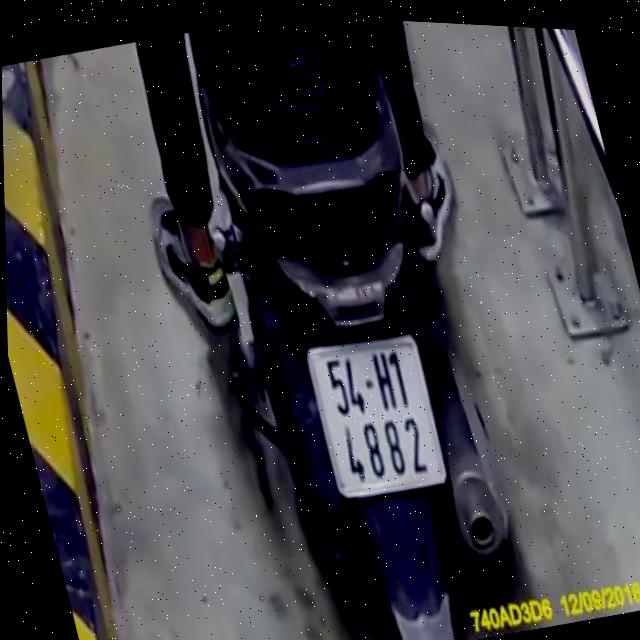plate: (155, 8, 552, 640)
